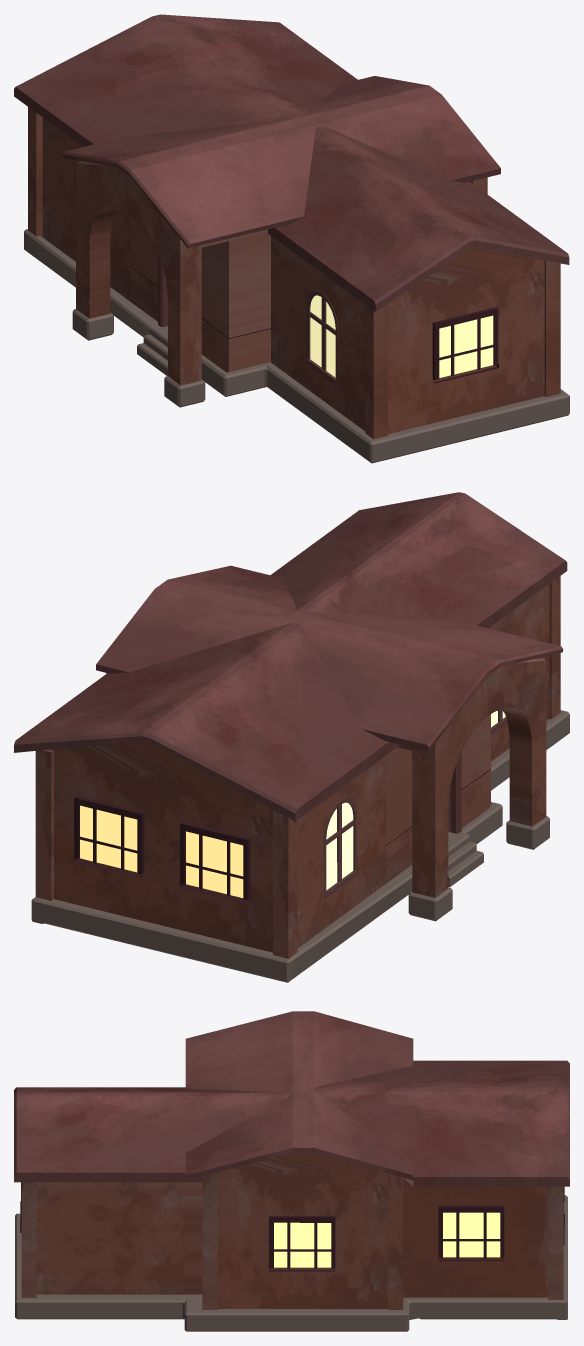
Rendered from house_brick_1f_2x1.glb.
The picture shows the model from 3 angles, top to bottom: view 1: azimuth 30°, elevation 25°; view 2: azimuth 150°, elevation 25°; view 3: azimuth 270°, elevation 25°; orthographic projection. The views are drawn at different scales.
Visible parts, largest first — view 1: 1f2to1; view 2: 1f2to1; view 3: 1f2to1.
Boxes of the visible parts, x1,y1,x2,y2 form: 1f2to1: (14,14,569,463); 1f2to1: (14,492,569,982); 1f2to1: (14,1011,569,1331).
Bounding box in the file's own units: 9.12 × 5.64 × 15.4.
6 materials, 2 textured.
